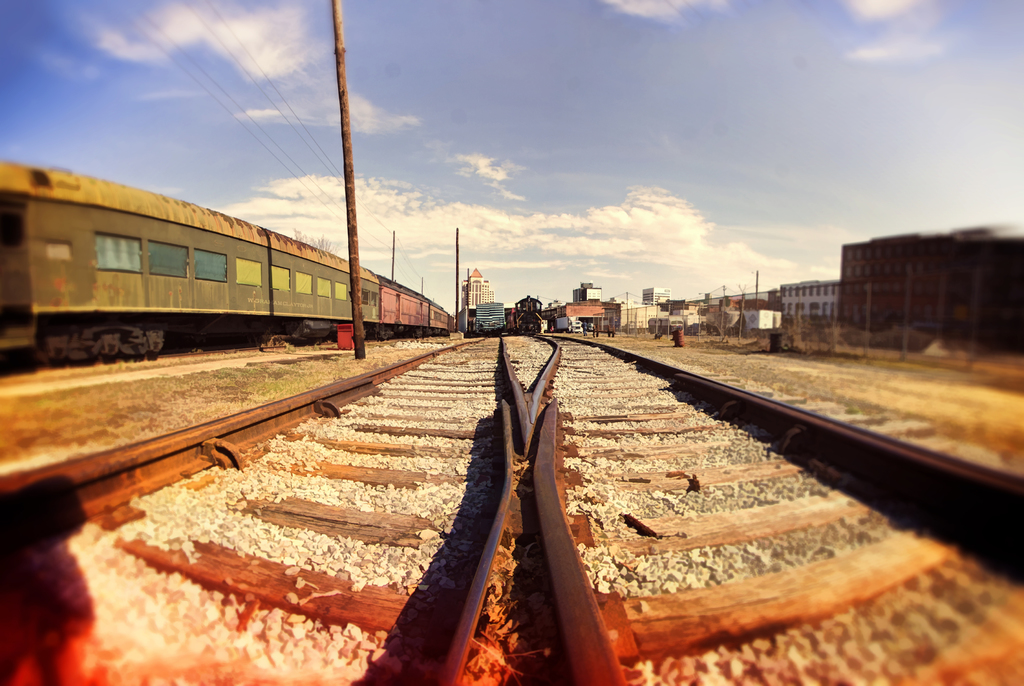train: (506, 295, 542, 331), (469, 301, 504, 334)
